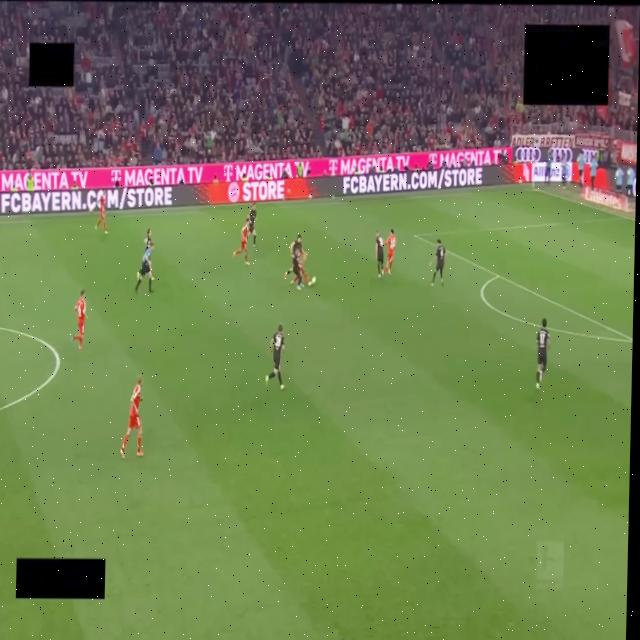ball: (311, 276, 316, 285)
player: (120, 377, 143, 458), (284, 234, 315, 288), (265, 324, 284, 389), (284, 234, 306, 289), (535, 318, 550, 389), (71, 290, 86, 350), (233, 217, 249, 265), (432, 239, 445, 286), (383, 229, 396, 274), (96, 194, 108, 234), (375, 231, 384, 278), (248, 202, 256, 248), (145, 228, 152, 249), (284, 263, 293, 278)
referee: (136, 243, 154, 293)
